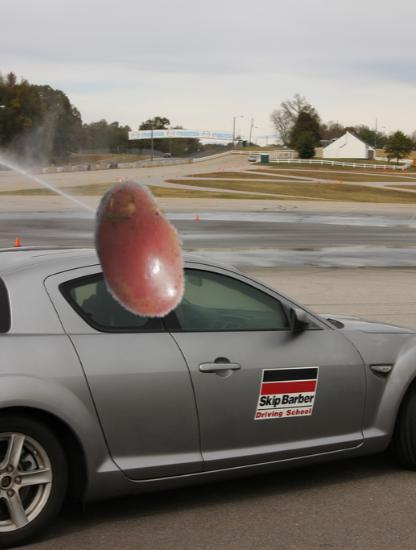Potato: (68, 177, 213, 322)
